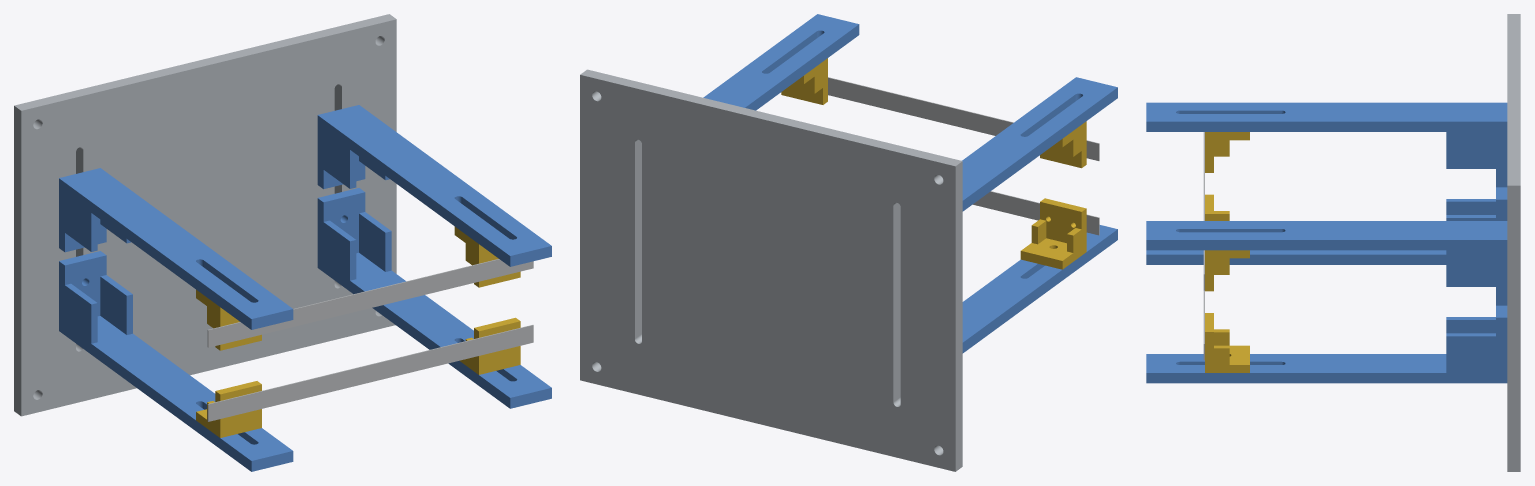
The model's file is banc_assemblage.glb.
The picture shows the model from 3 angles, left to right: view 1: azimuth 30°, elevation 25°; view 2: azimuth 150°, elevation 25°; view 3: azimuth 270°, elevation 25°; orthographic projection. The views are drawn at different scales.
Parts seen in each view (by area): view 1: Socle_0, Montant_1, Montant_6, Montant_2, Montant_5, Lamelle_metal_reference_49, Lamelle_metal_reference_83, Porte_lamelle_3, Porte_lamelle_7, Porte_lamelle_8, Porte_lamelle_4; view 2: Socle_0, Montant_2, Montant_6, Montant_1, Lamelle_metal_reference_83, Porte_lamelle_3, Lamelle_metal_reference_49, Porte_lamelle_4, Porte_lamelle_8; view 3: Montant_2, Montant_6, Montant_5, Socle_0, Montant_1, Porte_lamelle_7, Porte_lamelle_8, Porte_lamelle_4, Porte_lamelle_3.
Part boxes in pixels (x1,y1,x2,y2): Socle_0: [14, 14, 396, 416]; Montant_1: [59, 251, 293, 471]; Montant_6: [317, 105, 551, 266]; Montant_2: [59, 168, 293, 329]; Montant_5: [317, 188, 551, 408]; Lamelle_metal_reference_49: [207, 325, 533, 421]; Lamelle_metal_reference_83: [207, 259, 533, 347]; Porte_lamelle_3: [196, 381, 261, 437]; Porte_lamelle_7: [459, 317, 520, 374]; Porte_lamelle_8: [454, 226, 520, 287]; Porte_lamelle_4: [196, 289, 261, 350]; Socle_0: [580, 69, 962, 471]; Montant_2: [962, 77, 1117, 211]; Montant_6: [703, 14, 859, 110]; Montant_1: [962, 225, 1117, 353]; Lamelle_metal_reference_83: [828, 77, 1099, 160]; Porte_lamelle_3: [1020, 198, 1086, 269]; Lamelle_metal_reference_49: [973, 191, 1099, 235]; Porte_lamelle_4: [1040, 121, 1086, 168]; Porte_lamelle_8: [781, 58, 827, 104]; Montant_2: [1146, 102, 1507, 187]; Montant_6: [1146, 221, 1507, 305]; Montant_5: [1146, 305, 1507, 383]; Socle_0: [1507, 14, 1520, 471]; Montant_1: [1146, 187, 1507, 264]; Porte_lamelle_7: [1205, 313, 1249, 372]; Porte_lamelle_8: [1205, 250, 1249, 291]; Porte_lamelle_4: [1205, 132, 1249, 172]; Porte_lamelle_3: [1205, 194, 1229, 220].
Bounding box in the file's own units: 180 × 140 × 166.
